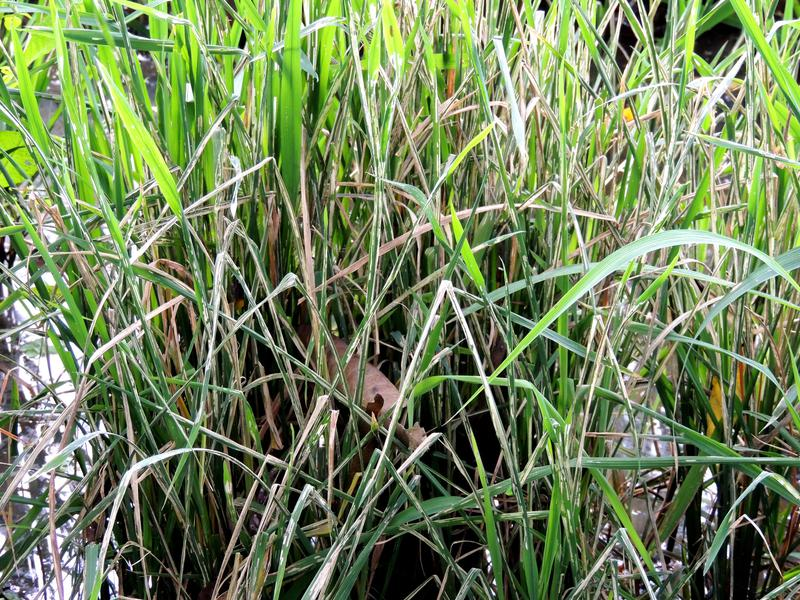Leaf_folder: (317, 320, 475, 453)
